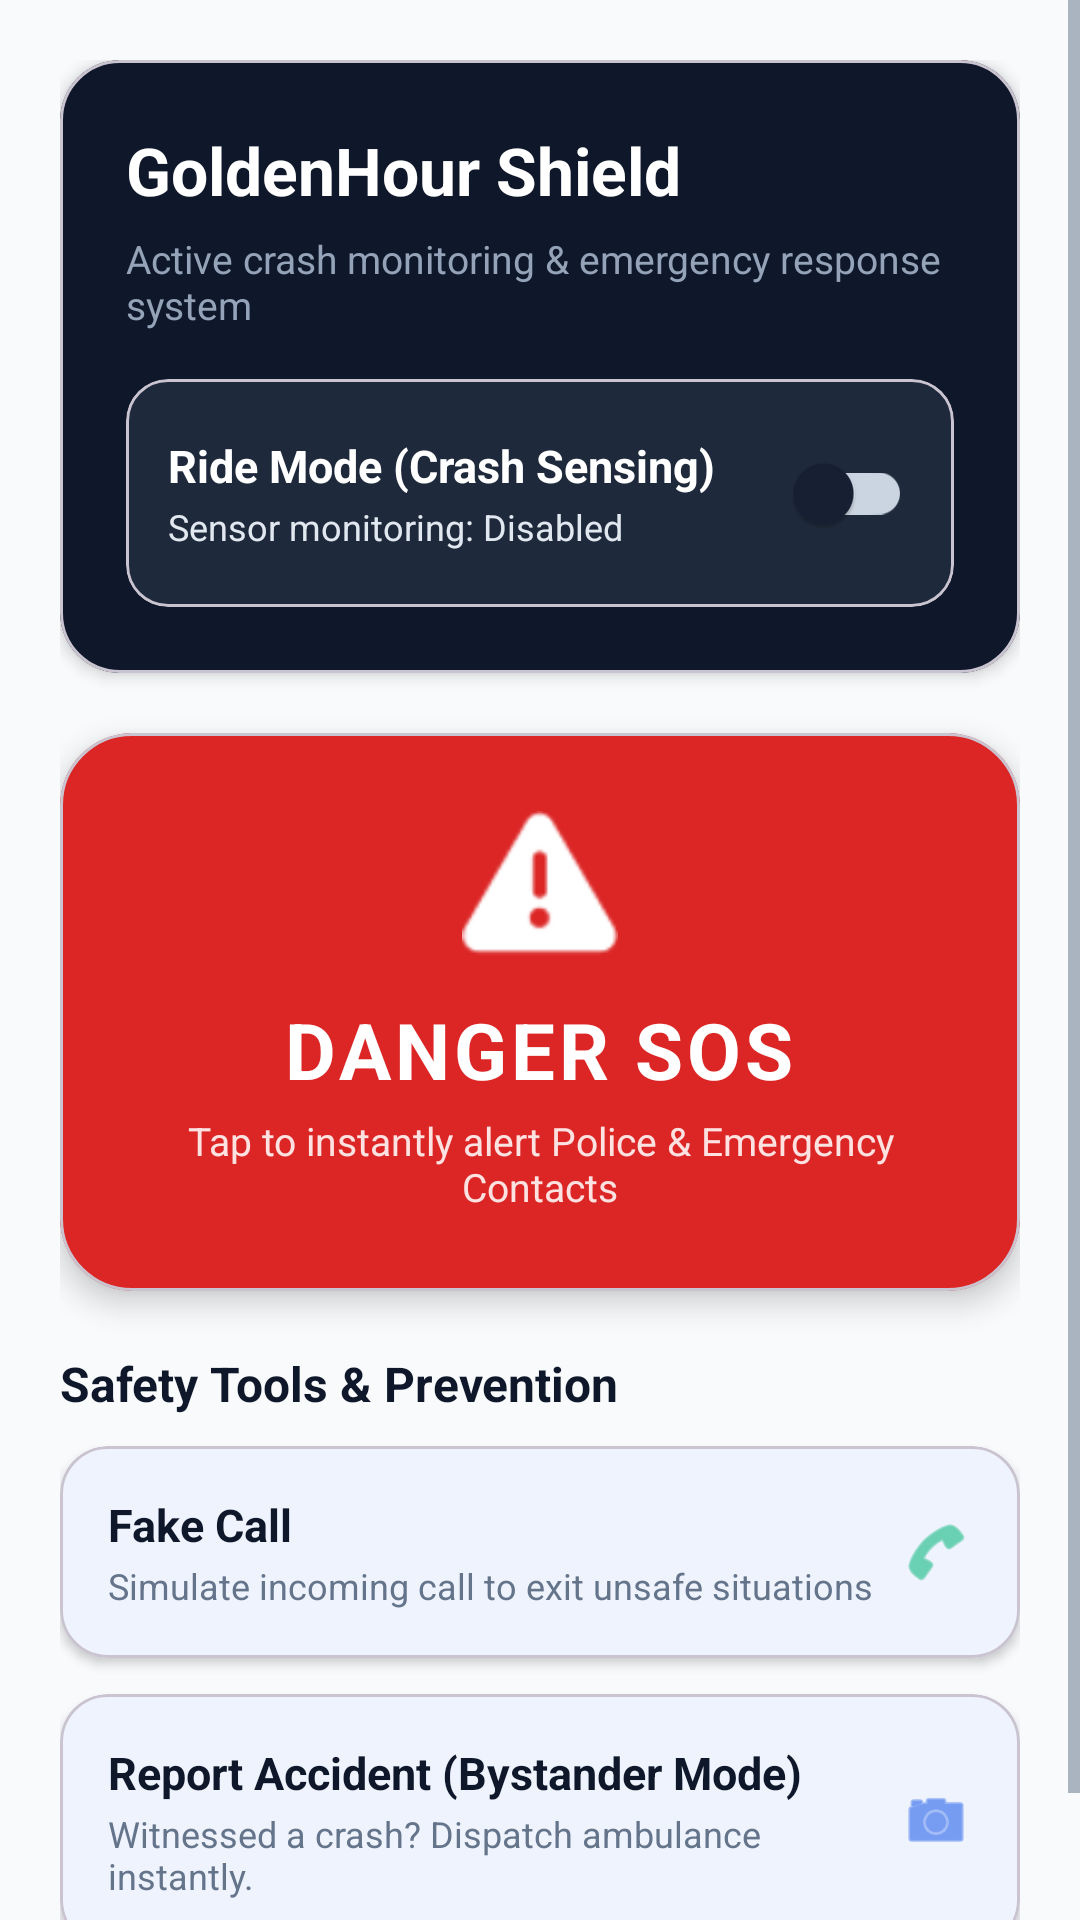

Where to tap for icons on this 1080px x 1920px app screen, as (x=x, y=y):
Fake Call Icon: (x=936, y=1552)
SOS Alert Icon: (x=540, y=882)
